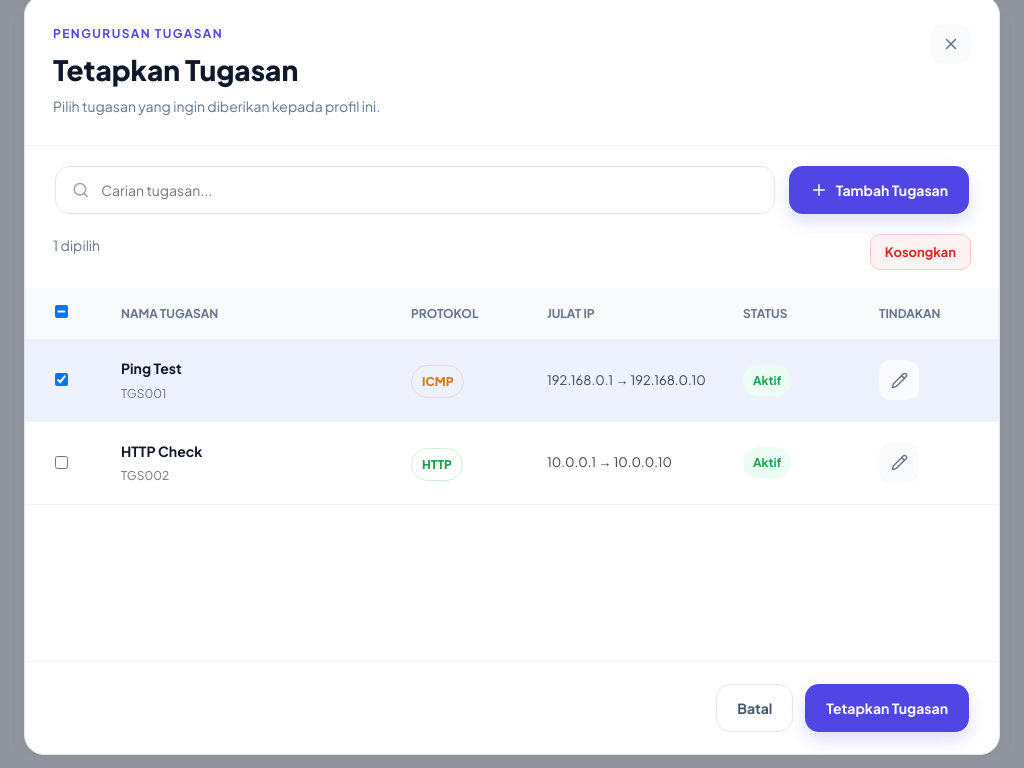
Test: AssignTugasanModal.vue › memilih semua tugasan
Click the 1st checkbox. click: (62, 312)
box: [55,305,68,318]
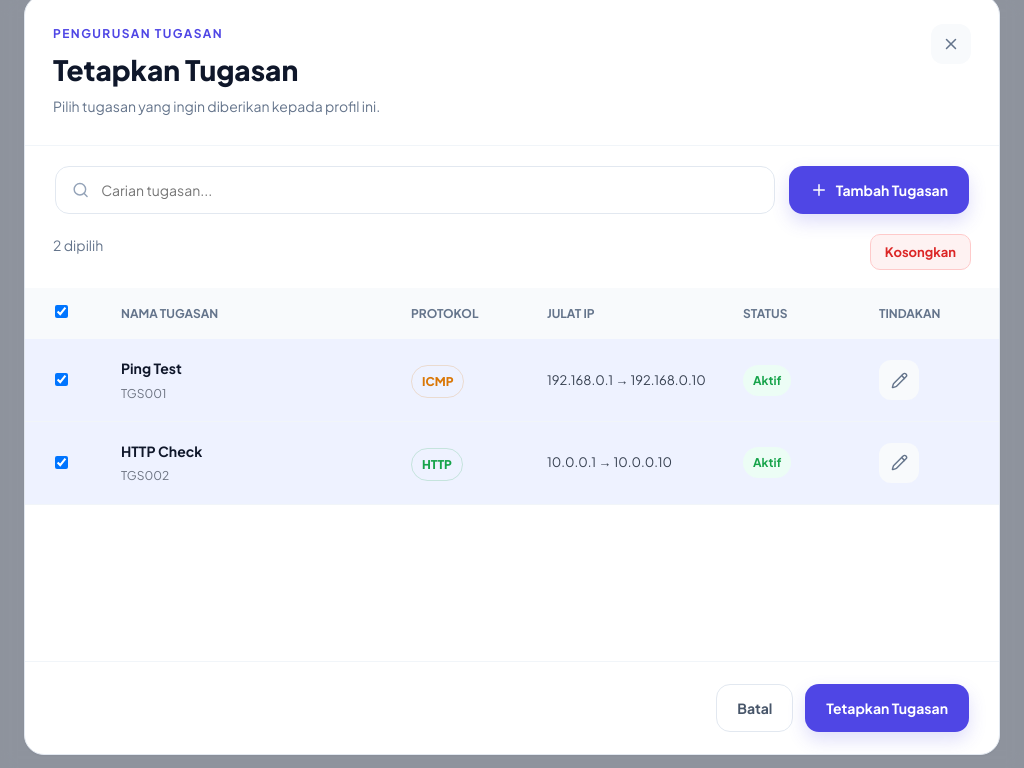
Expected: the text "2 dipilih" is shown, [53,236,103,254]
